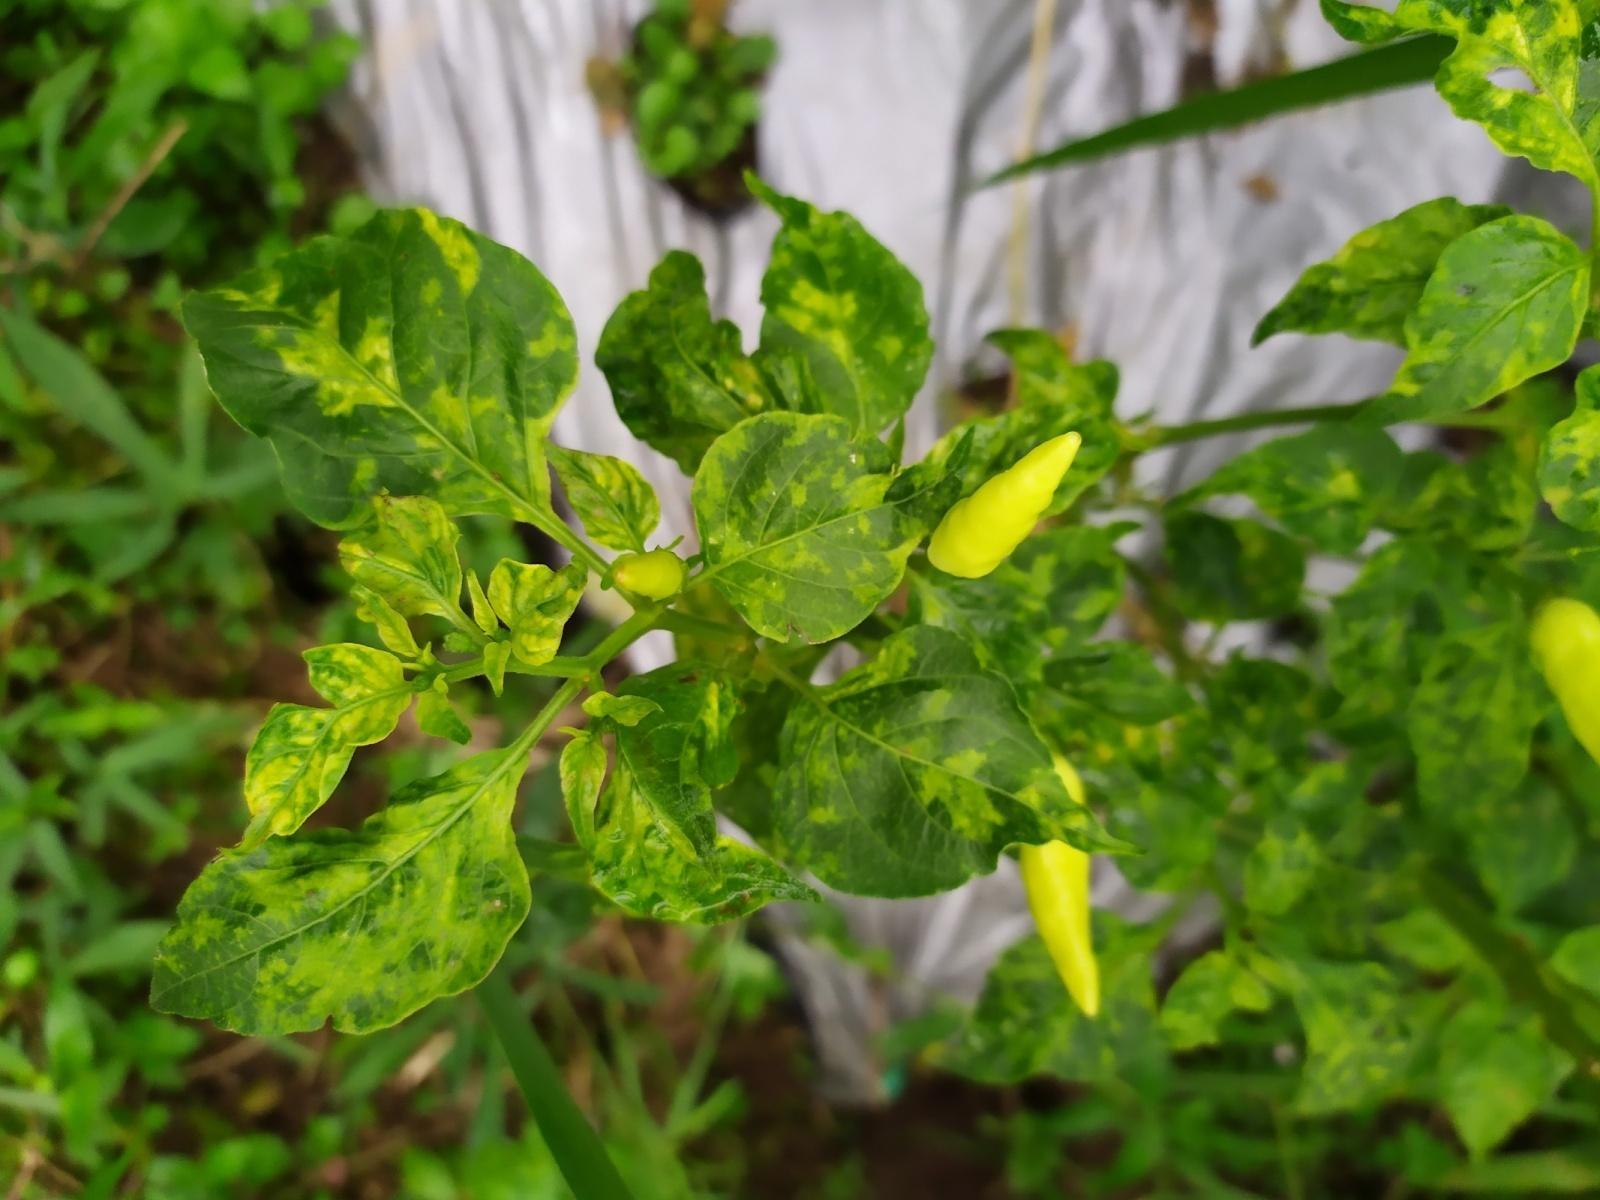cabai_normal: (929, 430, 1082, 579), (1018, 756, 1099, 1020), (614, 547, 682, 600)
